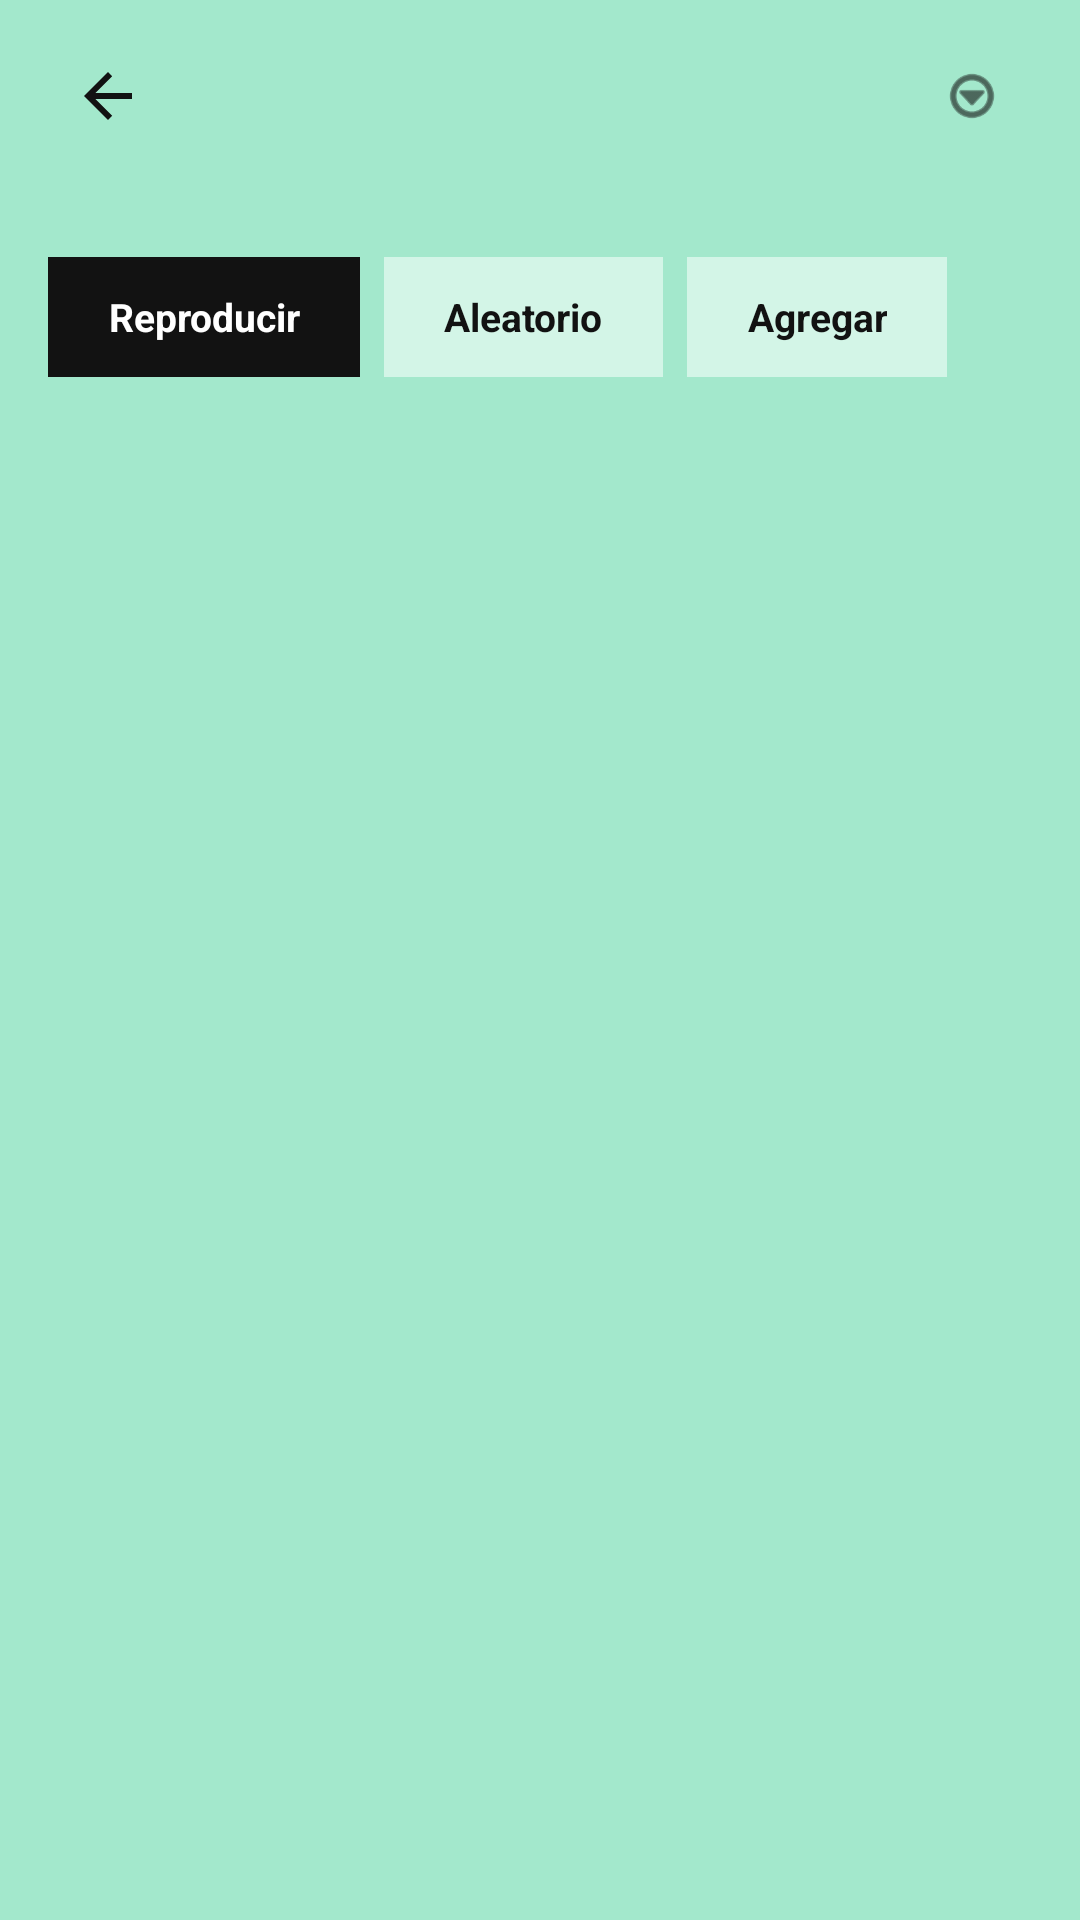

Icons on this 1080×1920 Android screen, each with its box as bbox(x1, y1, x2, y2):
Opciones de la playlist: bbox(950, 74, 994, 118)
Volver: bbox(84, 72, 132, 120)
